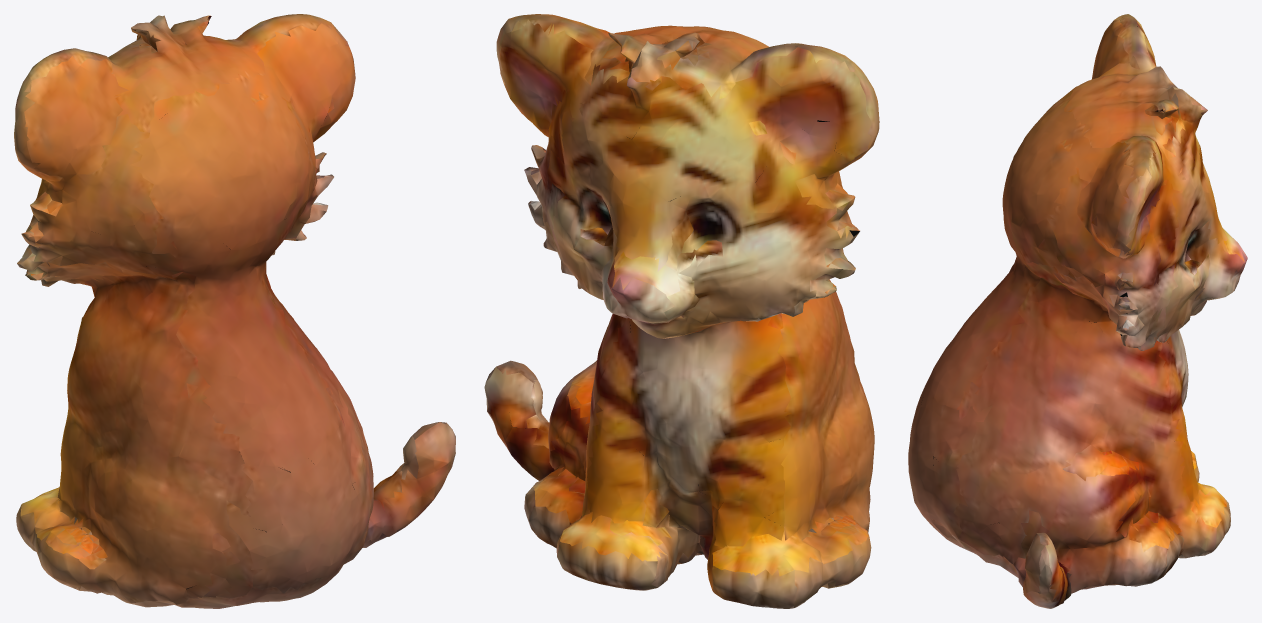
The model's file is cute_tiger.glb.
The picture shows the model from 3 angles, left to right: view 1: azimuth 30°, elevation 25°; view 2: azimuth 150°, elevation 25°; view 3: azimuth 270°, elevation 25°; orthographic projection. The views are drawn at different scales.
Visible parts, largest first — view 1: world; view 2: world; view 3: world.
Boxes of the visible parts, x1,y1,x2,y2 form: world: [14, 14, 455, 608]; world: [484, 14, 879, 608]; world: [908, 14, 1247, 608].
Size of the model in its own units: 0.694 by 0.8557 by 0.5632.
Materials: 1 (1 with a texture image).
